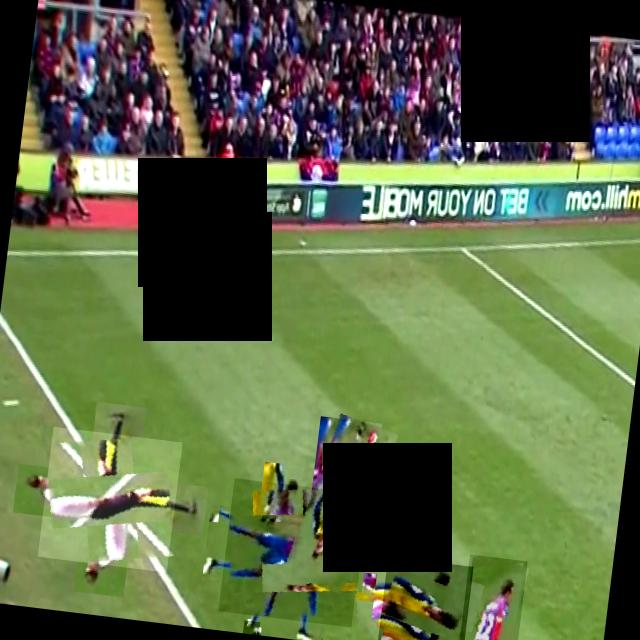ball: (241, 619, 259, 635)
referee: (36, 425, 181, 571)
soccer-player: (217, 477, 366, 626), (288, 412, 389, 594), (376, 555, 472, 640), (455, 553, 526, 640), (379, 593, 443, 640)
